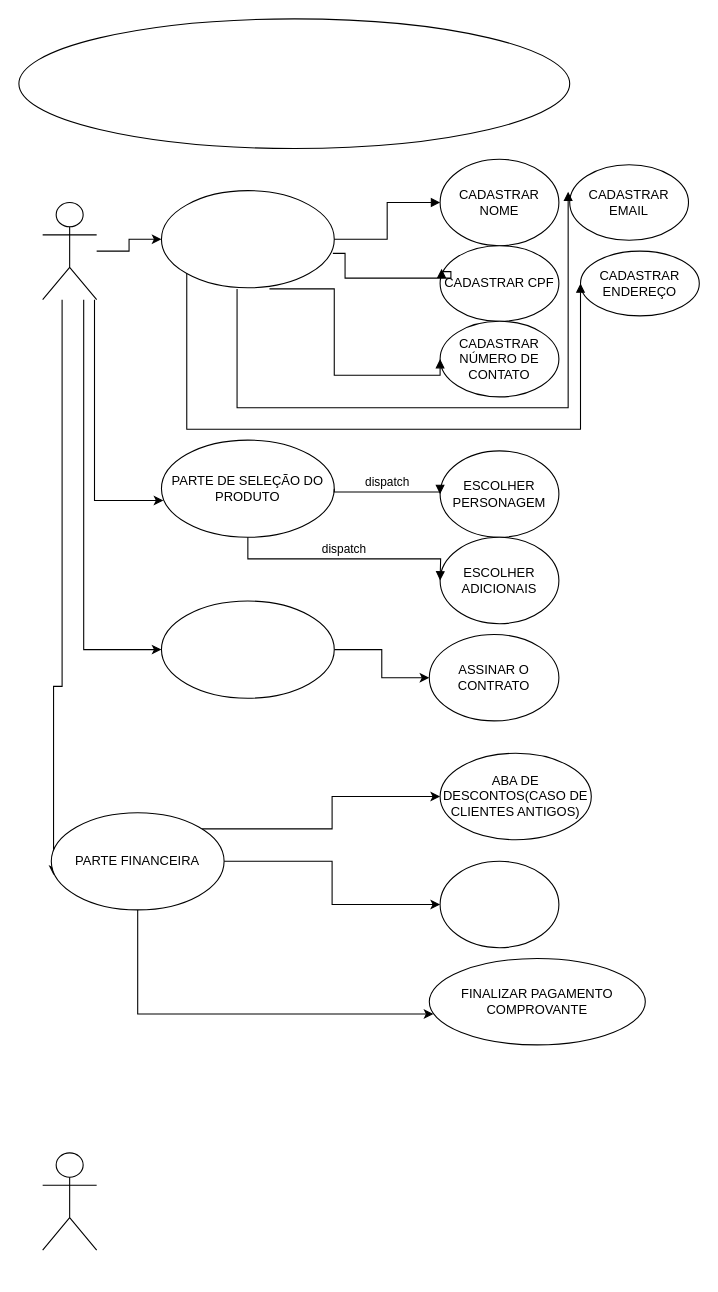
Image size: 718x1292. Some labels were removed from this diagram. The box of each missing label's shape, as (x1, y1, x2, y2) in pixels:
Cliente: (42, 201, 97, 300)
CONTRATO ONLINE DO ALUGUEL: (160, 600, 334, 698)
ESCOLHER FORMA DE PAGAMENTO: (439, 860, 559, 948)
PARTE DO CADASTRO DOS CILIENTES: (160, 190, 334, 288)
Rafaela: (42, 1152, 97, 1250)
SISTEMA WEB: (18, 18, 570, 148)
